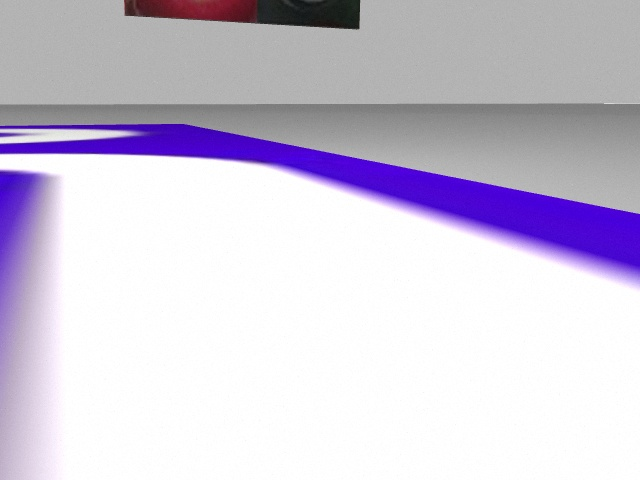red: (125, 1, 258, 24)
